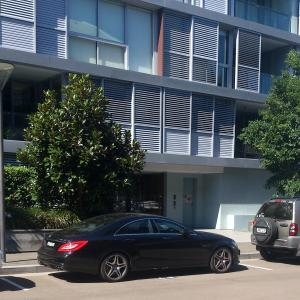Vehicle-registration-plate: (48, 242, 56, 248), (257, 229, 268, 233)
